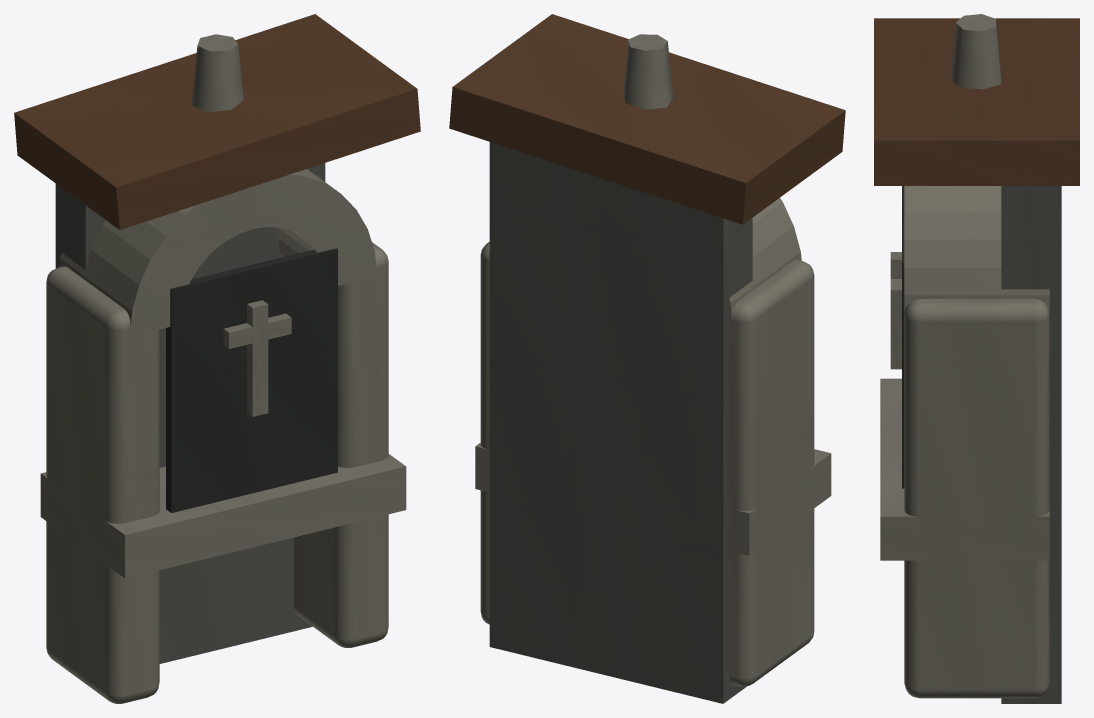
Rendered from sk-roadside-shrine.glb.
3 renders of one model, left to right at view 1: azimuth 30°, elevation 25°; view 2: azimuth 150°, elevation 25°; view 3: azimuth 270°, elevation 25°, orthographic. The views are drawn at different scales.
Parts seen in each view (by area): view 1: settlement:roadside_shrine-static-stone, shrine-canopy, shrine-niche, shrine-back; view 2: shrine-back, shrine-canopy, settlement:roadside_shrine-static-stone; view 3: settlement:roadside_shrine-static-stone, shrine-canopy, shrine-back, shrine-niche.
Part boxes in pixels (<box>): settlement:roadside_shrine-static-stone: <box>40,34,406,703</box>; shrine-canopy: <box>14,14,420,229</box>; shrine-niche: <box>166,248,337,512</box>; shrine-back: <box>55,163,325,663</box>; shrine-back: <box>489,142,752,703</box>; shrine-canopy: <box>449,14,845,224</box>; settlement:roadside_shrine-static-stone: <box>475,34,831,686</box>; settlement:roadside_shrine-static-stone: <box>880,14,1049,698</box>; shrine-canopy: <box>874,18,1079,185</box>; shrine-back: <box>1001,186,1061,703</box>; shrine-niche: <box>902,186,904,488</box>.
Bounding box in the file's own units: 0.5845 × 1.13 × 0.34.
Materials: 4 (4 with a texture image).
